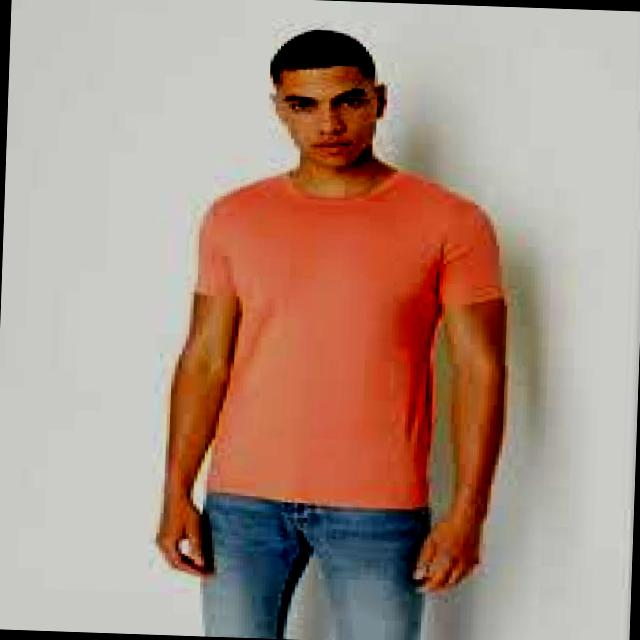face: (273, 64, 386, 167)
lower-wear: (200, 493, 431, 639)
top-wear: (194, 170, 504, 509)
